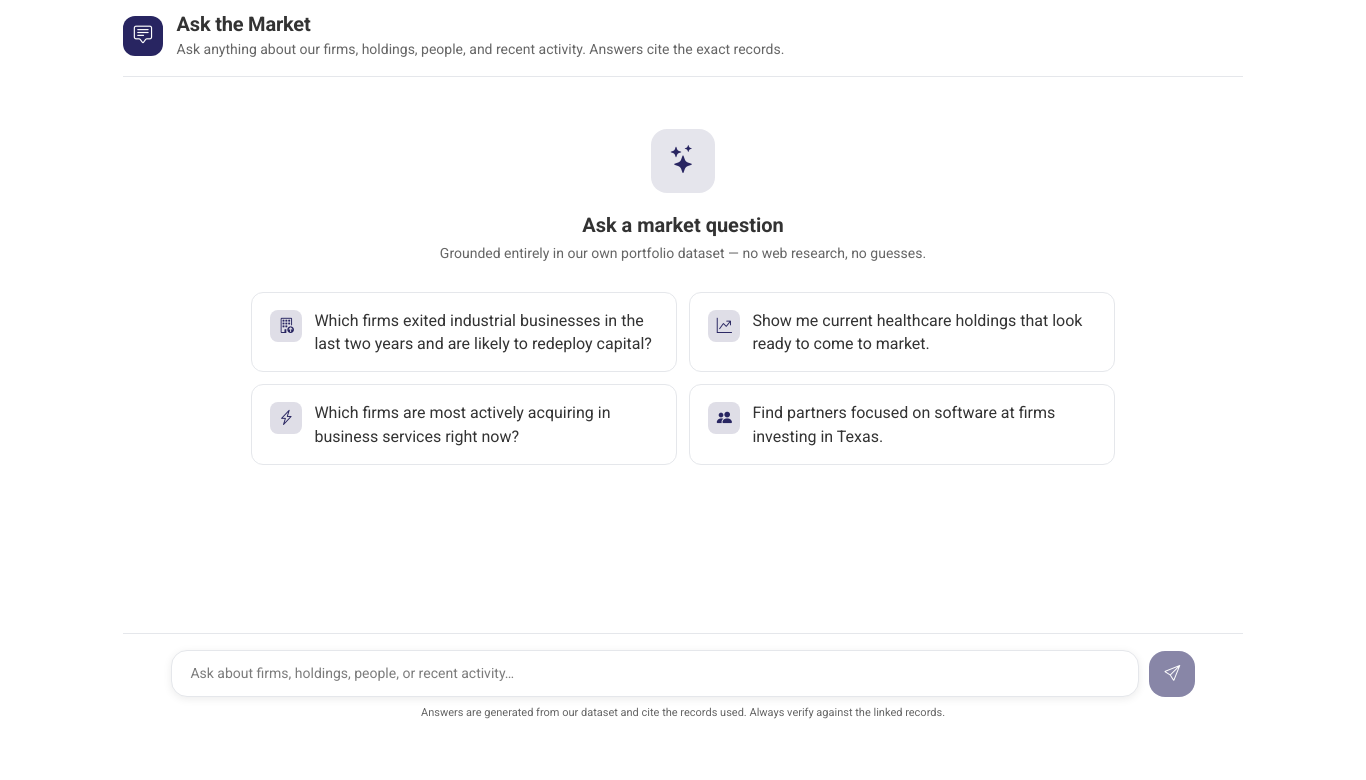
Test: PEAskPage › renders suggestion grid and posts a suggestion
expect the element with test id "qa-empty" is shown: met, box [235,97,1131,497]
Click the 1st button with test id "qa-suggestion". click: click(464, 332)
box: [251,292,677,372]
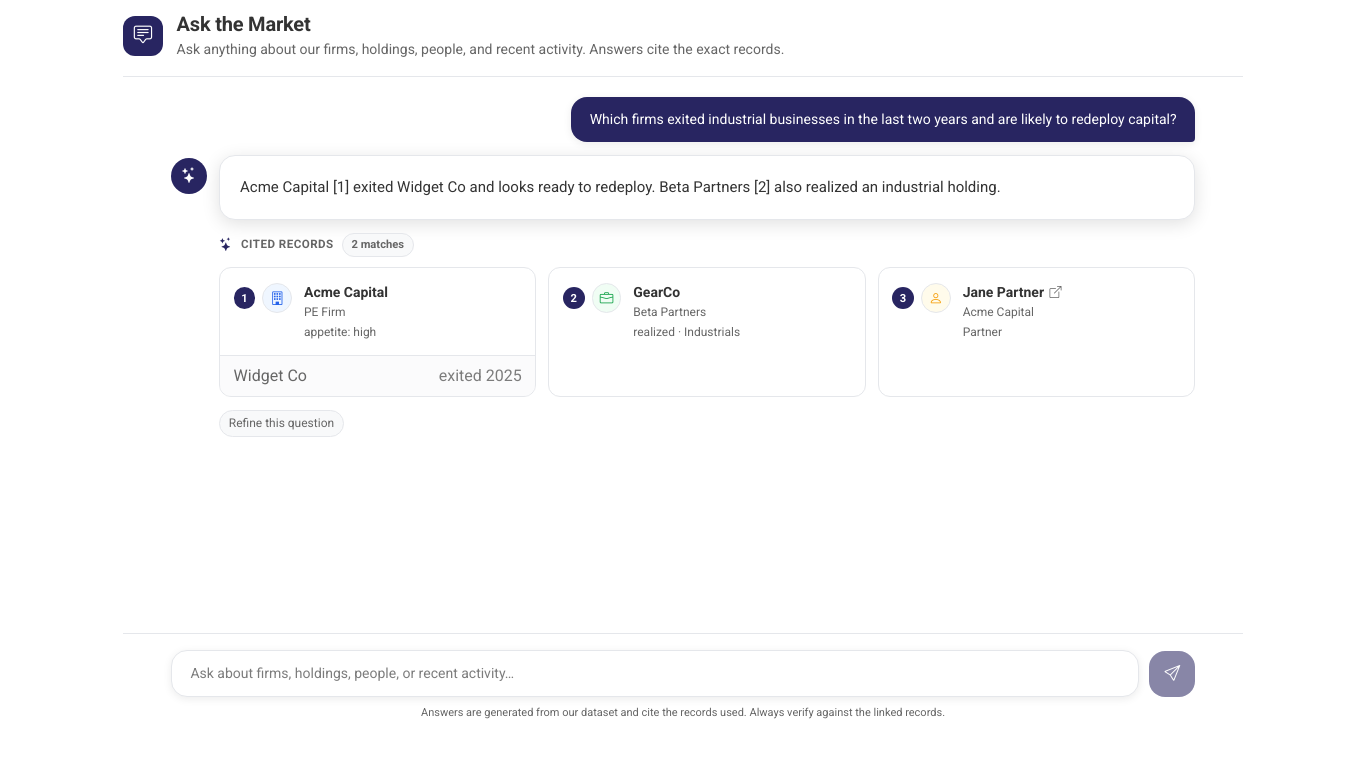
expect the element with test id "qa-answer" is shown: met, box [219,155,1195,220]
expect the text with test id "qa-match-count" reads "2 matches": met, box [342,233,414,257]
